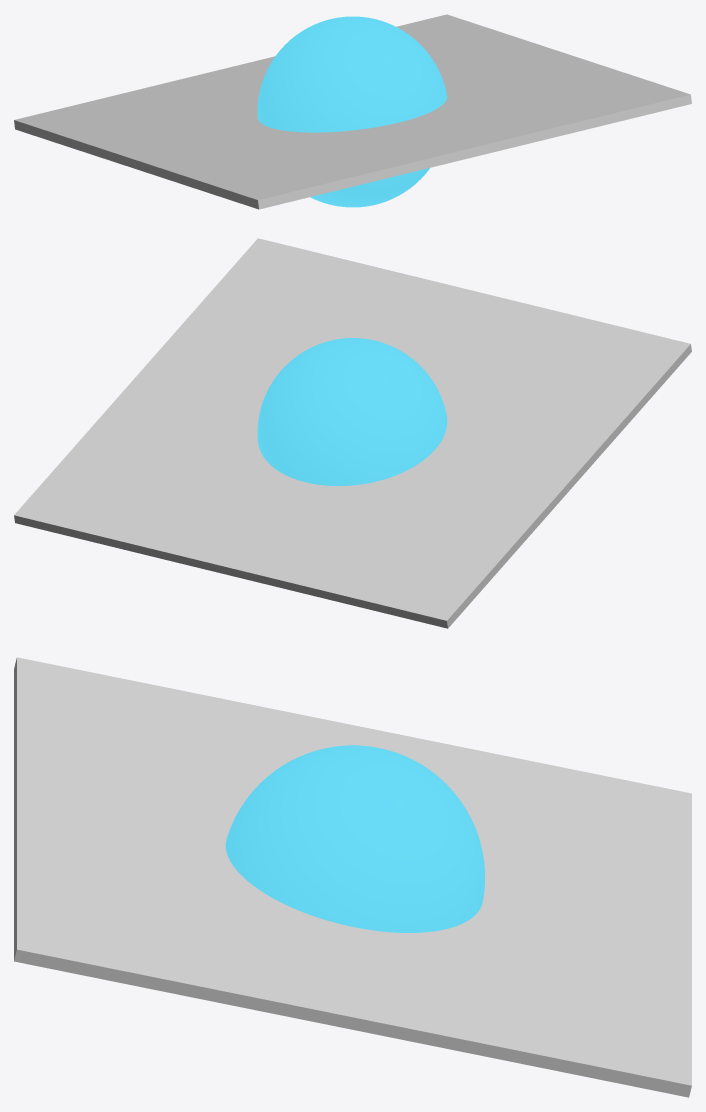
Rendered from blackhole.glb.
3 renders of one model, top to bottom at view 1: azimuth 30°, elevation 25°; view 2: azimuth 150°, elevation 25°; view 3: azimuth 270°, elevation 25°, orthographic. The views are drawn at different scales.
Visible parts, largest first — view 1: Blackhole.002, Blackhole.001; view 2: Blackhole.002, Blackhole.001; view 3: Blackhole.002, Blackhole.001.
Boxes of the visible parts, box(x1,y1,x2,y2) form: Blackhole.002: box(14, 14, 691, 209); Blackhole.001: box(257, 16, 447, 207); Blackhole.002: box(14, 238, 691, 628); Blackhole.001: box(257, 338, 447, 485); Blackhole.002: box(14, 657, 691, 1097); Blackhole.001: box(225, 745, 484, 932).
Bounding box in the file's own units: 5.23 × 2 × 5.13.
